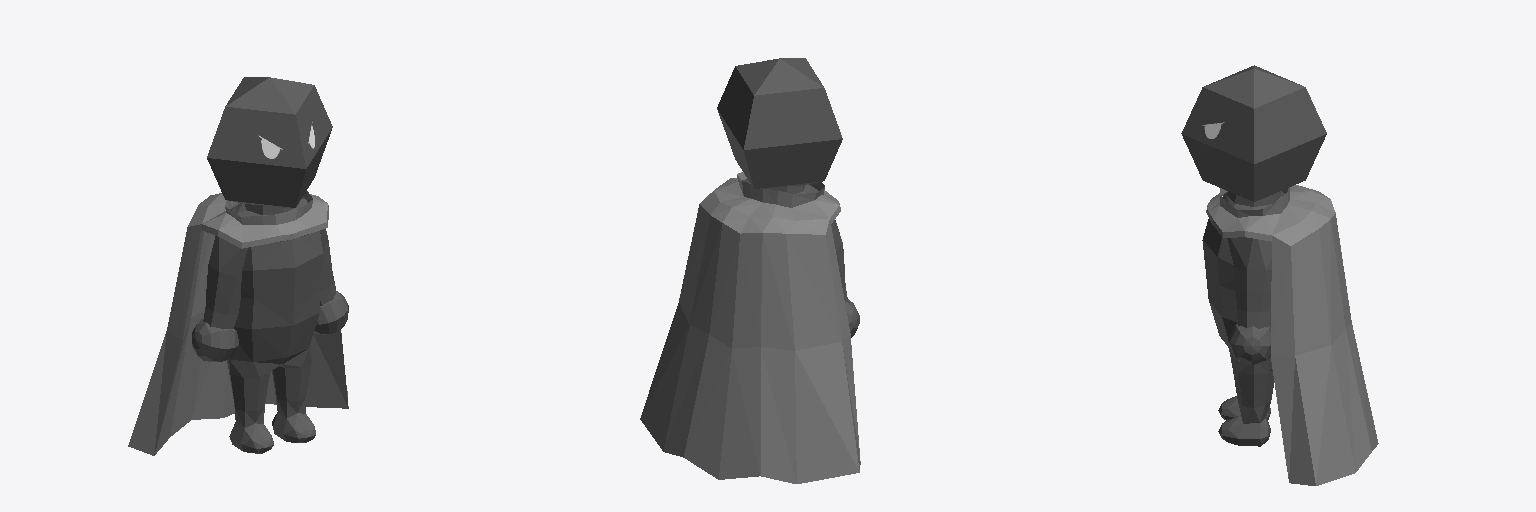
3 renders of one model, left to right at view 1: azimuth 30°, elevation 25°; view 2: azimuth 150°, elevation 25°; view 3: azimuth 270°, elevation 25°, orthographic.
Parts seen in each view (by area): view 1: 立方体; view 2: 立方体; view 3: 立方体.
Part boxes in pixels (x1,y1,x2,y2): 立方体: (128, 77, 348, 455); 立方体: (640, 58, 860, 483); 立方体: (1181, 65, 1378, 485).
Size of the model in its own units: 3.48 by 5.69 by 2.71.
1 materials, 1 textured.